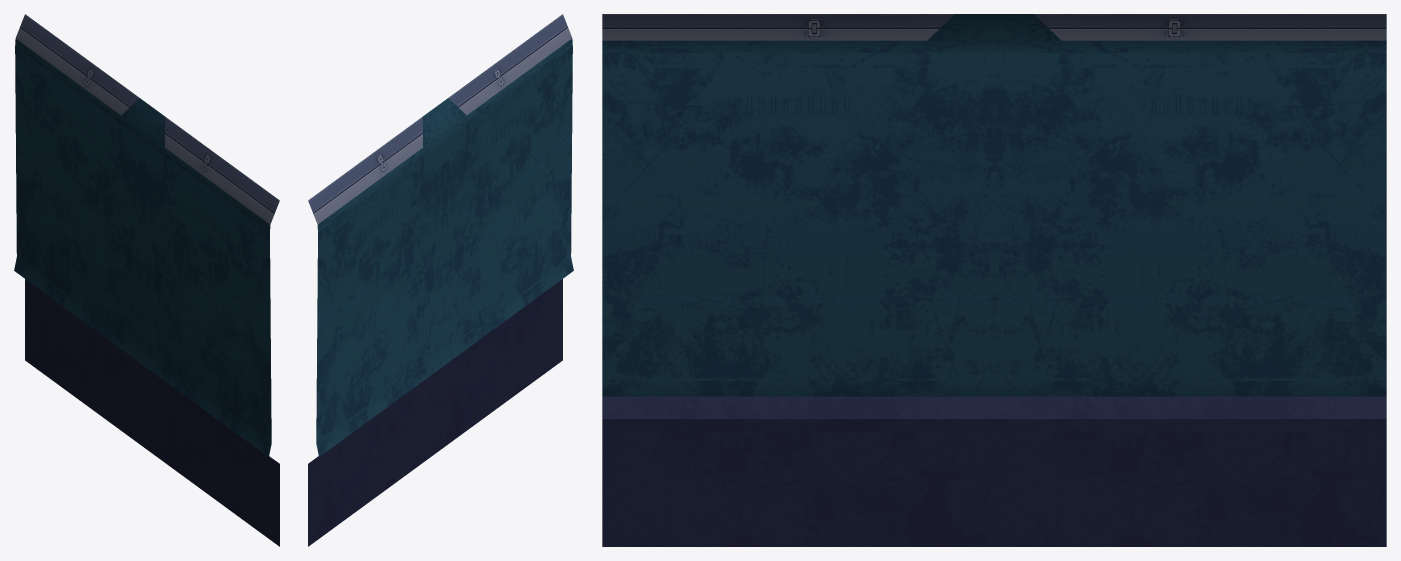
File: WallAstra_Straight_Flat.gltf
3 views of the same model, side by side, from view 1: azimuth 30°, elevation 25°; view 2: azimuth 150°, elevation 25°; view 3: azimuth 270°, elevation 25° (orthographic). The views are drawn at different scales.
Parts seen in each view (by area): view 1: WallAstra_Straight_Flat; view 2: WallAstra_Straight_Flat; view 3: WallAstra_Straight_Flat.
Boxes of the visible parts, x1,y1,x2,y2 form: WallAstra_Straight_Flat: [14, 14, 279, 546]; WallAstra_Straight_Flat: [308, 14, 573, 546]; WallAstra_Straight_Flat: [602, 14, 1386, 546].
Bounding box in the file's own units: 0.1 × 3 × 4.
3 materials, 3 textured.
